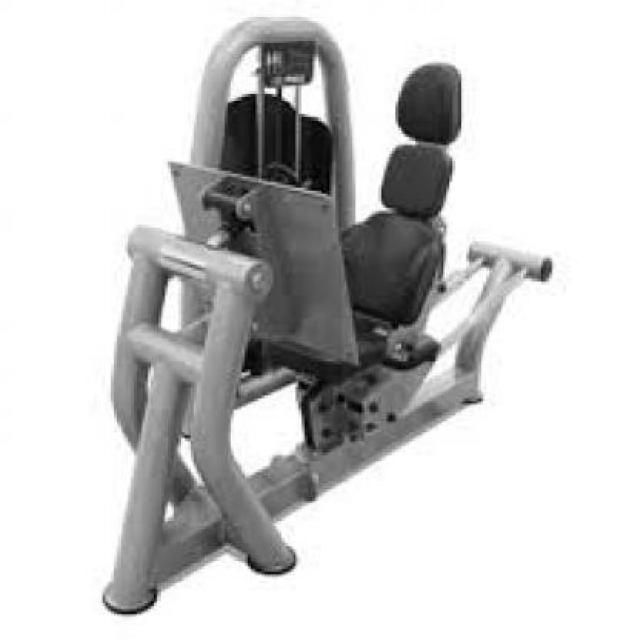leg press: (54, 3, 568, 631)
